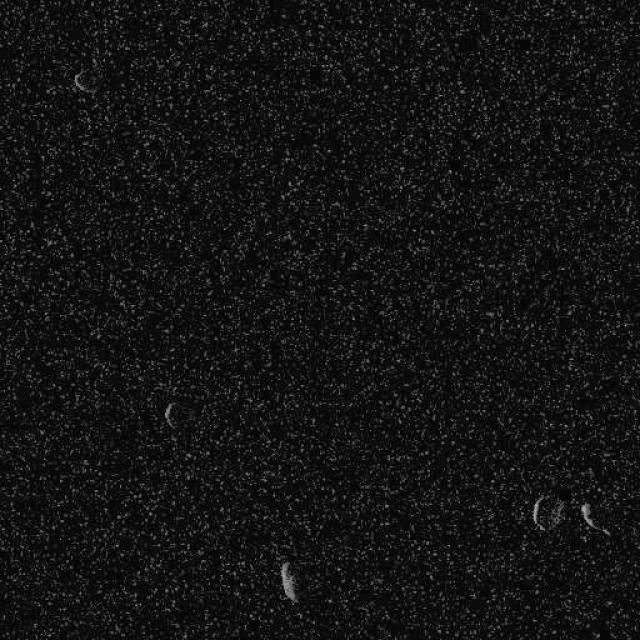D2: (530, 492, 566, 532), (579, 502, 610, 538), (279, 560, 299, 604), (71, 67, 95, 95), (162, 400, 178, 430)
